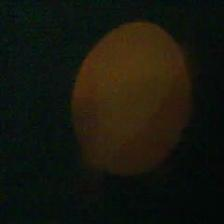fertile: (62, 14, 191, 179)
